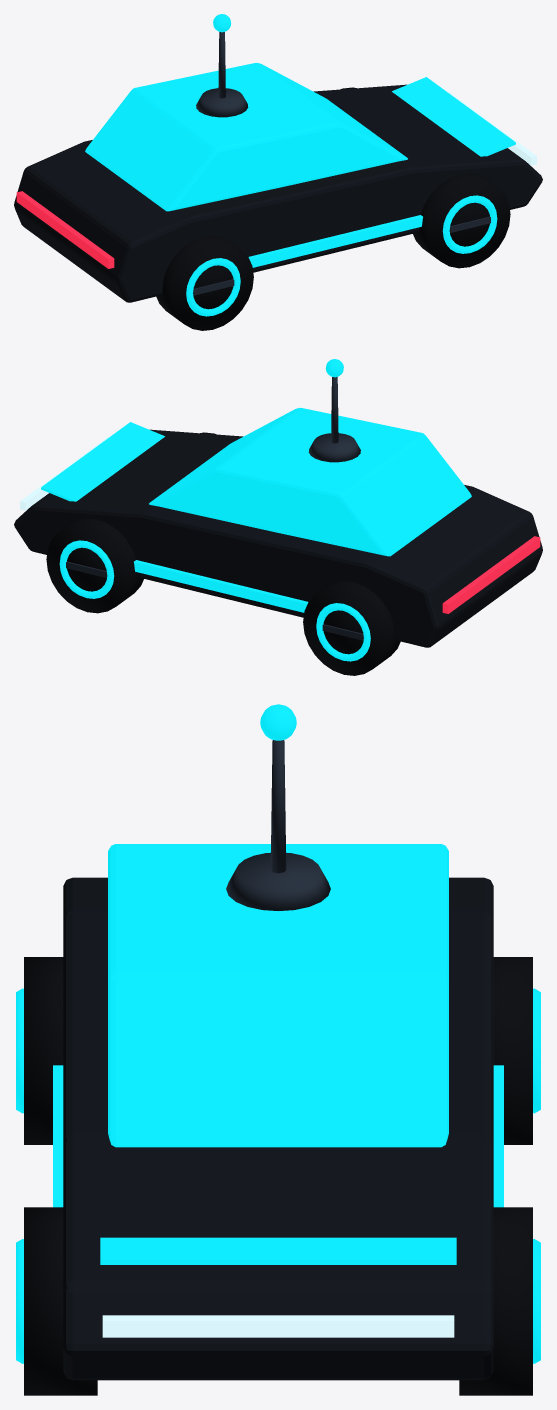
The model's file is flexipath_vehicle.glb.
3 renders of one model, top to bottom at view 1: azimuth 30°, elevation 25°; view 2: azimuth 150°, elevation 25°; view 3: azimuth 270°, elevation 25°, orthographic. The views are drawn at different scales.
Parts seen in each view (by area): view 1: Chassis, Cabin, LightBlades, Tyre_RR, Tyre_FR, RoofAntenna, TailLights, Rim_RR, Rim_FR, Headlights; view 2: Chassis, Cabin, LightBlades, Tyre_RL, Tyre_FL, RoofAntenna, TailLights, Rim_RL, Rim_FL, Headlights; view 3: Chassis, Cabin, LightBlades, Tyre_FL, Tyre_FR, Headlights, Tyre_RL, Tyre_RR, RoofAntenna, AntennaTip, Rim_RL, Rim_RR (+2 smaller).
Boxes of the visible parts, x1,y1,x2,y2 form: Chassis: (14,84,542,302); Cabin: (85,63,407,211); LightBlades: (248,77,515,267); Tyre_RR: (156,236,253,330); Tyre_FR: (413,173,510,268); RoofAntenna: (196,32,248,117); TailLights: (16,191,114,268); Rim_RR: (186,258,240,316); Rim_FR: (442,195,497,253); Headlights: (447,92,536,165); Chassis: (14,429,542,647); Cabin: (149,408,471,556); LightBlades: (41,422,308,612); Tyre_RL: (303,581,400,675); Tyre_FL: (46,518,143,613); RoofAntenna: (308,377,360,462); TailLights: (442,536,540,613); Rim_RL: (316,603,370,661); Rim_FL: (59,540,114,598); Headlights: (20,437,109,510); Chassis: (63,877,493,1380); Cabin: (108,844,448,1147); LightBlades: (53,1065,503,1264); Tyre_FL: (459,1207,532,1395); Tyre_FR: (24,1207,97,1395); Headlights: (102,1315,454,1337); Tyre_RL: (493,957,532,1144); Tyre_RR: (24,957,63,1144); RoofAntenna: (226,740,330,910); AntennaTip: (260,704,296,740); Rim_RL: (533,988,540,1113); Rim_RR: (16,988,23,1113).
Size of the model in its own units: 3.79 by 2.11 by 2.
